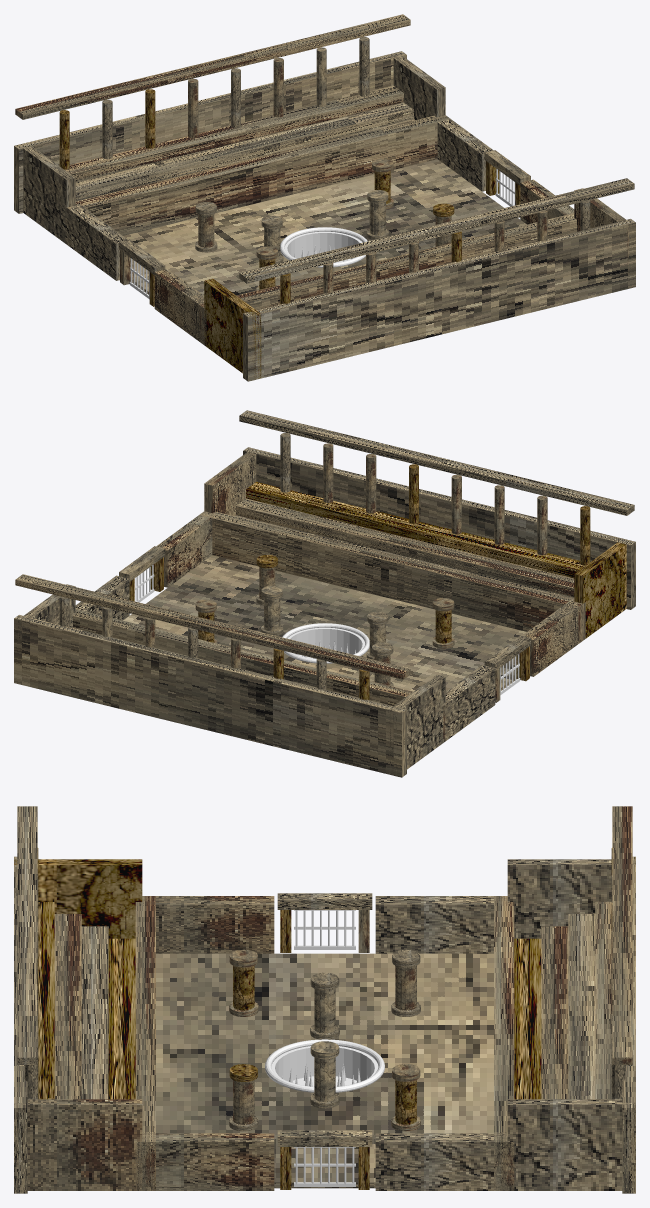
File: combat arena.glb
3 views of the same model, one above another, from view 1: azimuth 30°, elevation 25°; view 2: azimuth 150°, elevation 25°; view 3: azimuth 270°, elevation 25° (orthographic). The views are drawn at different scales.
Parts seen in each view (by area): view 1: Coliseum_Wall_South-col, Arena_Floor-col, Arena_Wall_North-col, Coliseum_Wall_North-col, Stand_North_Tier_2-col, Stand_North_Tier_3-col, Arena_Wall_South-col, Coliseum_Ledge_South-col, Coliseum_Ledge_North-col, Coliseum_Wall_NW-col, Coliseum_Wall_SW-col, Arena_Wall_West_Left-col (+20 smaller); view 2: Coliseum_Wall_North-col, Arena_Floor-col, Arena_Wall_South-col, Coliseum_Wall_South-col, Stand_South_Tier_2-col, Stand_South_Tier_3-col, Arena_Wall_North-col, Coliseum_Ledge_North-col, Coliseum_Ledge_South-col, Coliseum_Wall_SW-col, Coliseum_Wall_NW-col, Arena_Wall_West_Left-col (+20 smaller); view 3: Arena_Floor-col, Coliseum_Wall_SE-col, Coliseum_Wall_NE-col, Arena_Wall_East_Left-col, Arena_Wall_East_Right-col, Arena_Wall_West_Right-col, Arena_Wall_West_Left-col, Coliseum_Wall_NW-col, Coliseum_Wall_SW-col, Arena_Wall_North-col, Arena_Wall_South-col, Coliseum_Ledge_North-col (+21 smaller).
Part boxes in pixels (x1,y1,x2,y2): Coliseum_Wall_South-col: (243,219,635,381); Arena_Floor-col: (123,159,526,295); Arena_Wall_North-col: (67,115,450,235); Coliseum_Wall_North-col: (14,51,406,213); Stand_North_Tier_2-col: (75,102,413,201); Stand_North_Tier_3-col: (64,86,403,182); Arena_Wall_South-col: (199,213,576,346); Coliseum_Ledge_South-col: (239,178,634,283); Coliseum_Ledge_North-col: (15,14,410,119); Coliseum_Wall_NW-col: (23,146,75,243); Coliseum_Wall_SW-col: (204,278,261,378); Arena_Wall_West_Left-col: (65,203,127,280); Coliseum_Wall_North-col: (14,615,406,777); Arena_Floor-col: (123,555,526,691); Arena_Wall_South-col: (199,511,585,643); Coliseum_Wall_South-col: (243,447,635,609); Stand_South_Tier_2-col: (236,498,574,597); Stand_South_Tier_3-col: (246,482,585,578); Arena_Wall_North-col: (73,609,450,742); Coliseum_Ledge_North-col: (15,574,410,679); Coliseum_Ledge_South-col: (239,410,634,515); Coliseum_Wall_SW-col: (574,542,626,638); Coliseum_Wall_NW-col: (388,674,445,775); Arena_Wall_West_Left-col: (444,665,495,741); Arena_Floor-col: (156,953,493,1188); Coliseum_Wall_SE-col: (14,1099,142,1190); Coliseum_Wall_NE-col: (507,1099,634,1190); Arena_Wall_East_Left-col: (375,1133,510,1190); Arena_Wall_East_Right-col: (139,1133,274,1190); Arena_Wall_West_Right-col: (140,896,274,953); Arena_Wall_West_Left-col: (375,896,510,953); Coliseum_Wall_NW-col: (507,859,635,938); Coliseum_Wall_SW-col: (14,859,142,938); Arena_Wall_North-col: (494,896,514,1190); Arena_Wall_South-col: (135,896,155,1190); Coliseum_Ledge_North-col: (612,806,632,1064).
Bounding box in the file's own units: 44 × 13.75 × 46.
Materials: 7 (5 with a texture image).
